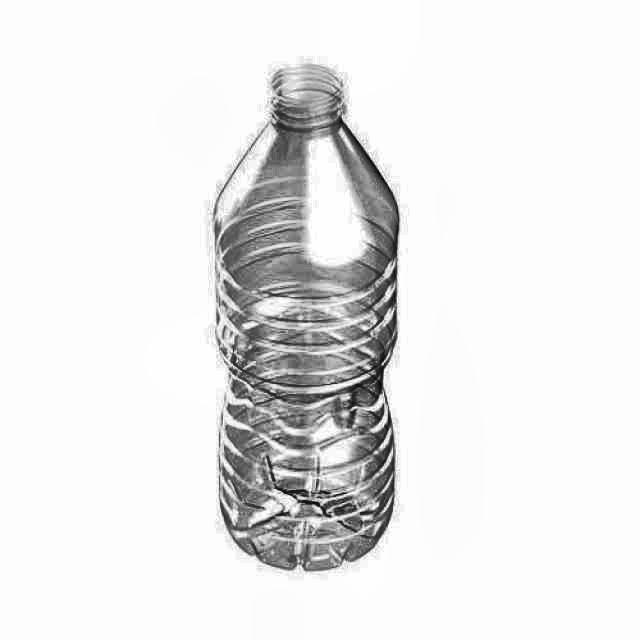plastic: (214, 64, 400, 574)
